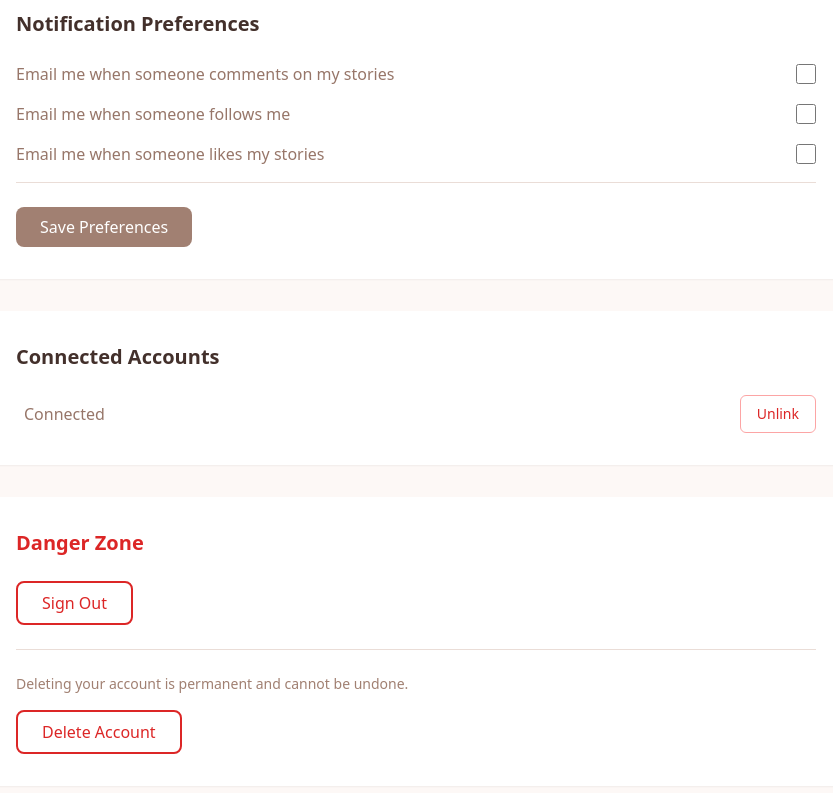
Scenario: pages/user/settings.vue › shows the only-sign-in-method message and keeps the confirm open when del rejects
This screenshot has width=833, height=793.
(page scrolled)
Click the button "Unlink". click: coordinates (778, 414)
box: x1=740 y1=395 x2=816 y2=433
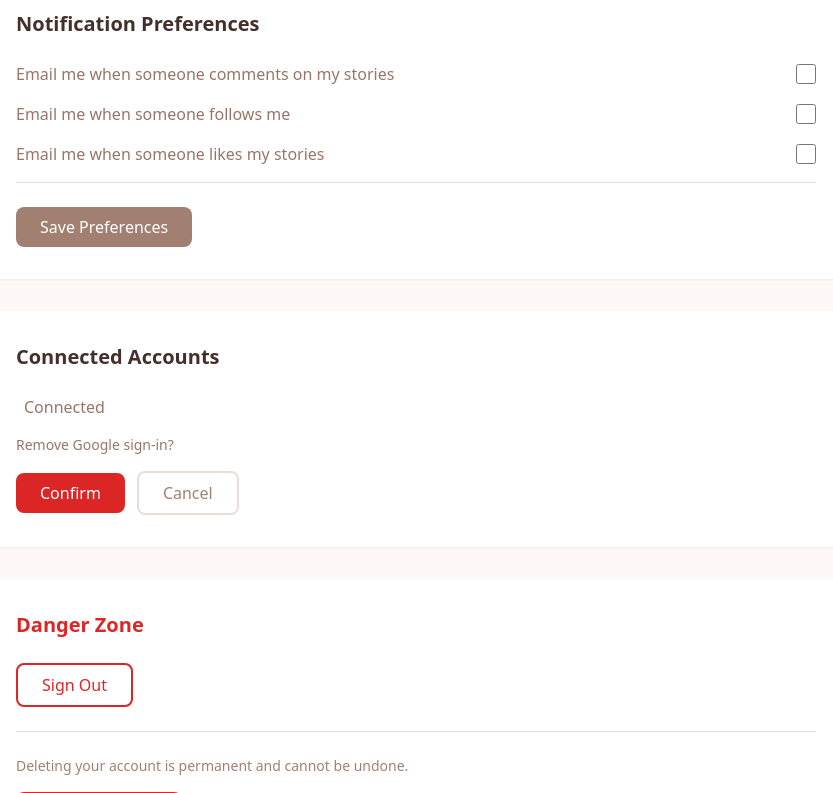
Click the button "Confirm". click: coordinates (70, 493)
box: x1=16 y1=473 x2=125 y2=513
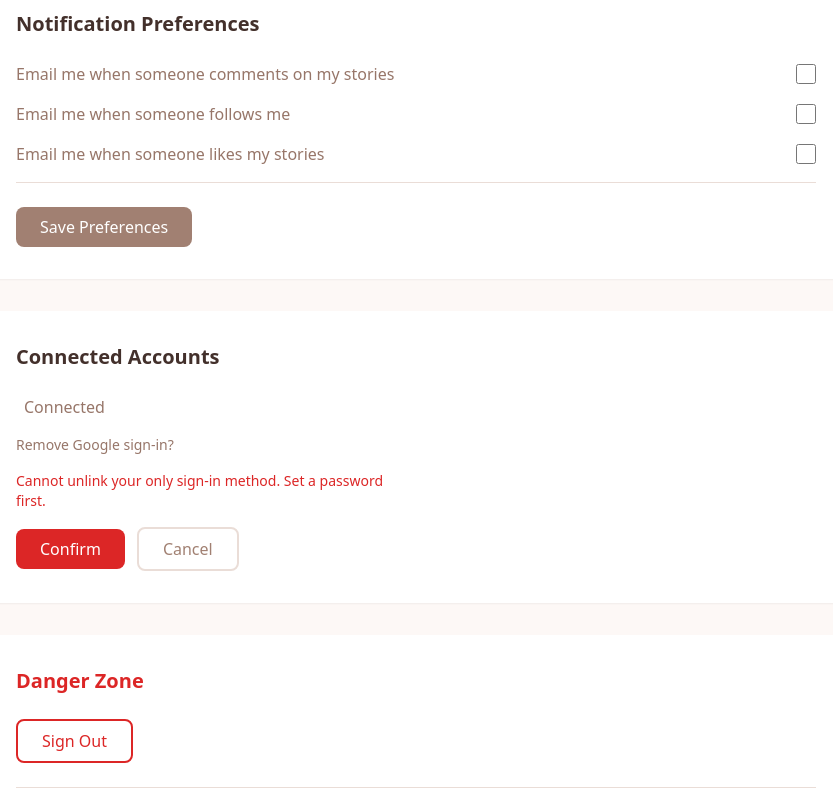
Expected: the text "Remove Google sign-in?" is shown, x1=16 y1=435 x2=174 y2=454
Expected: the text "Cannot unlink your only sign-in method. Set a password first." is shown, x1=16 y1=471 x2=400 y2=511
